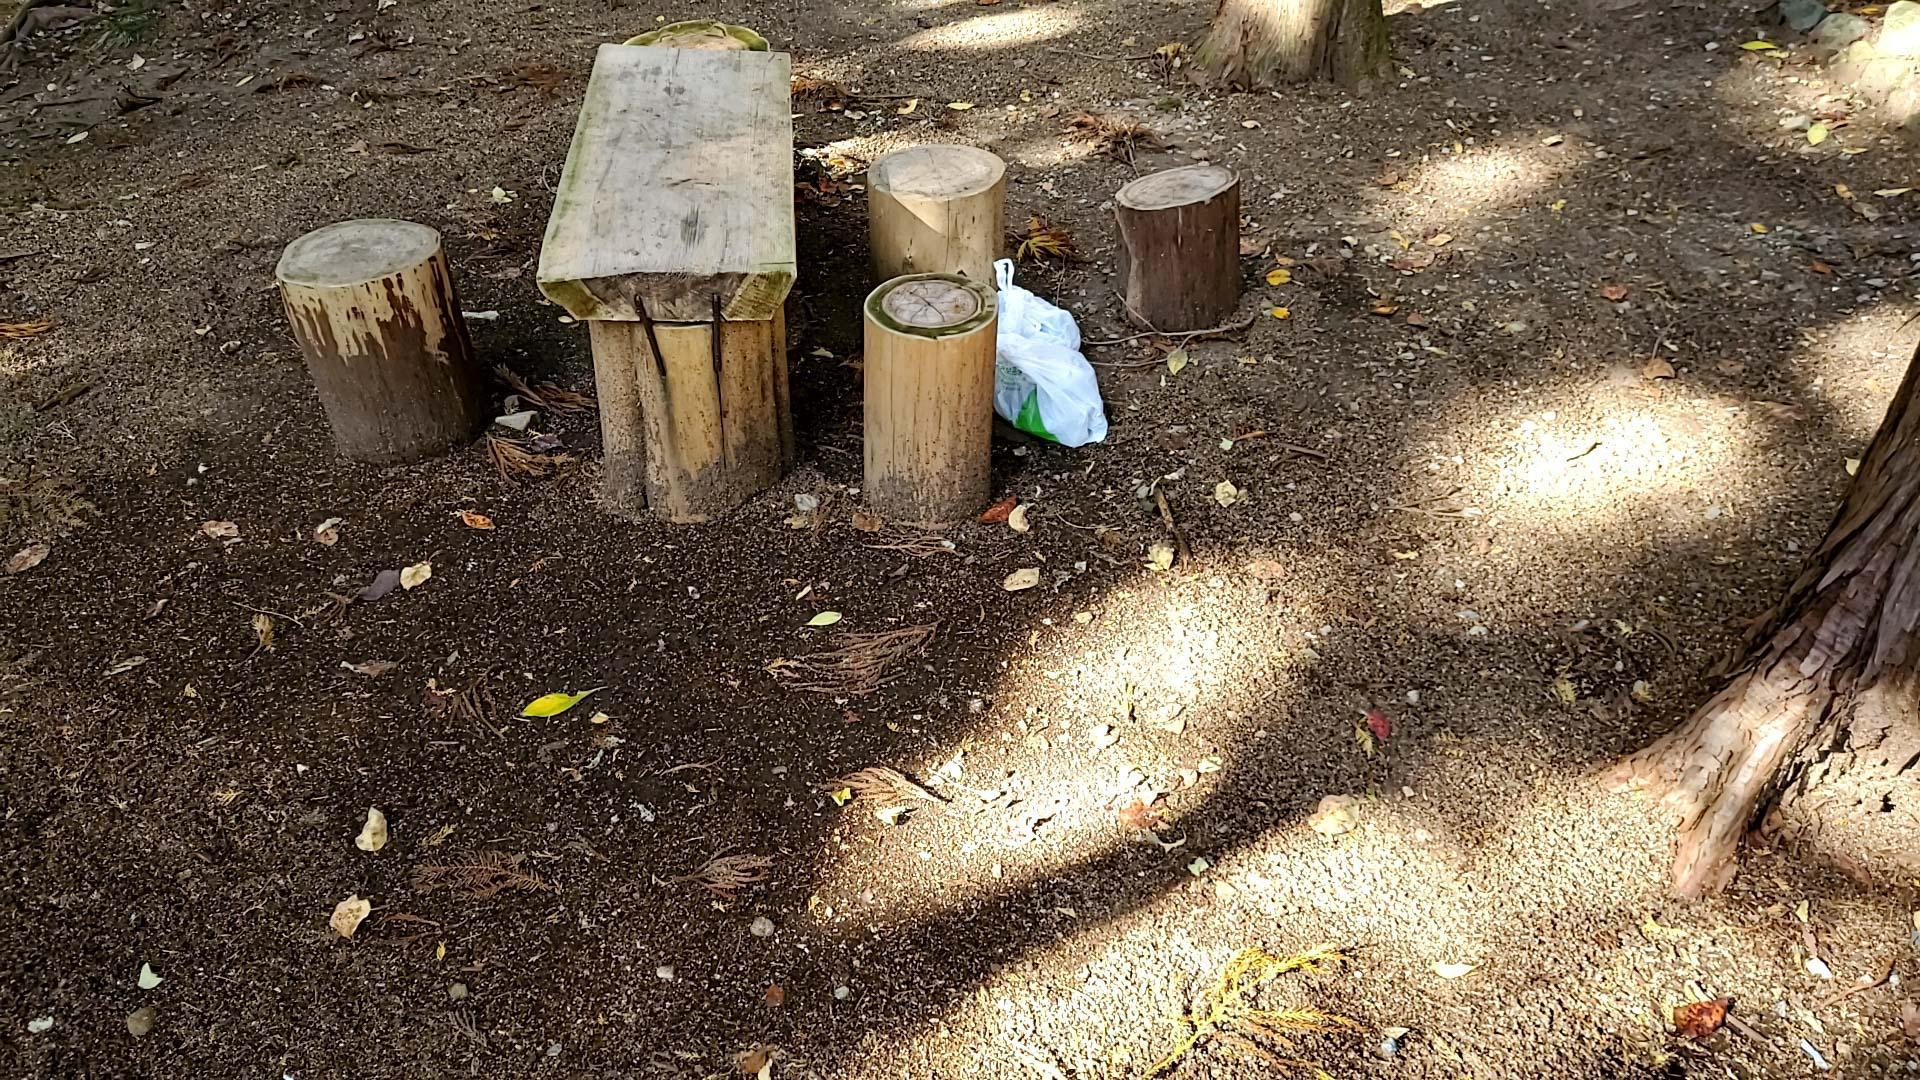white_bag: (982, 255, 1116, 448)
